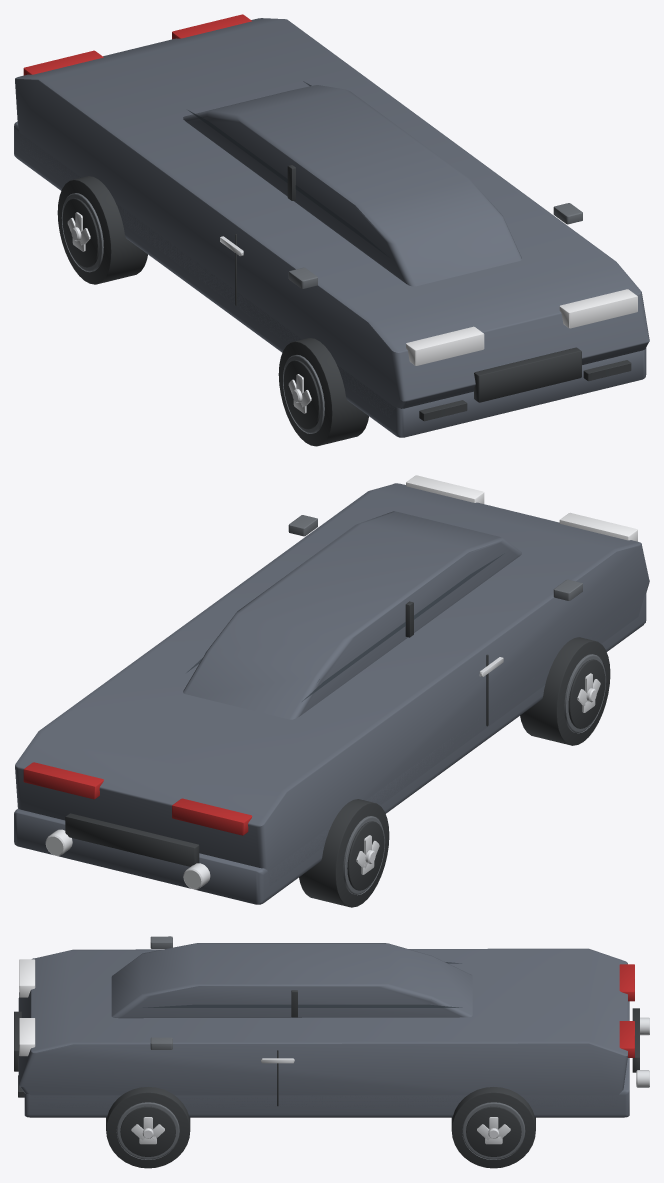
The model's file is raven-muscle.glb.
3 views of the same model, one above another, from view 1: azimuth 30°, elevation 25°; view 2: azimuth 150°, elevation 25°; view 3: azimuth 270°, elevation 25° (orthographic). The views are drawn at different scales.
Parts seen in each view (by area): view 1: paint, trim, head, accent, tail, rim, glass; view 2: paint, trim, tail, rim, accent, head, glass; view 3: paint, trim, accent, rim, head, glass, tail.
Part boxes in pixels (x1=…): paint: x1=14, y1=18, x2=649, y2=437; trim: x1=57, y1=165, x2=631, y2=446; head: x1=406, y1=289, x2=637, y2=365; accent: x1=61, y1=193, x2=582, y2=433; tail: x1=23, y1=14, x2=251, y2=75; rim: x1=67, y1=212, x2=311, y2=413; glass: x1=188, y1=81, x2=388, y2=256; paint: x1=14, y1=483, x2=649, y2=904; trim: x1=65, y1=601, x2=610, y2=907; tail: x1=23, y1=762, x2=252, y2=835; rim: x1=45, y1=657, x2=600, y2=889; accent: x1=288, y1=515, x2=606, y2=895; head: x1=406, y1=475, x2=637, y2=541; glass: x1=187, y1=554, x2=502, y2=701; paint: x1=18, y1=943, x2=629, y2=1117; trim: x1=14, y1=990, x2=639, y2=1168; accent: x1=116, y1=936, x2=525, y2=1159; rim: x1=131, y1=1017, x2=649, y2=1144; head: x1=19, y1=959, x2=35, y2=1056; glass: x1=143, y1=962, x2=461, y2=1007; tail: x1=619, y1=964, x2=634, y2=1057.
Bounding box in the file's own units: 2.17 × 1.35 × 5.13.
